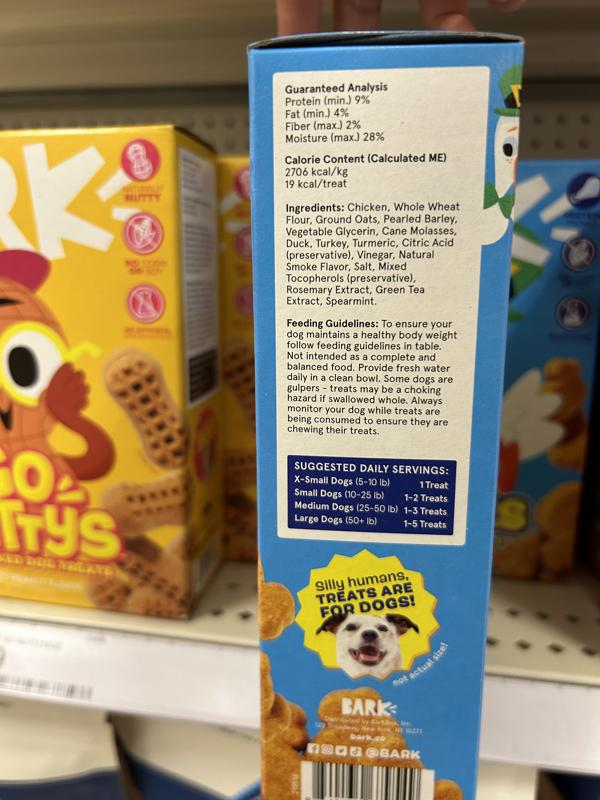ingredients: (282, 200, 464, 308)
